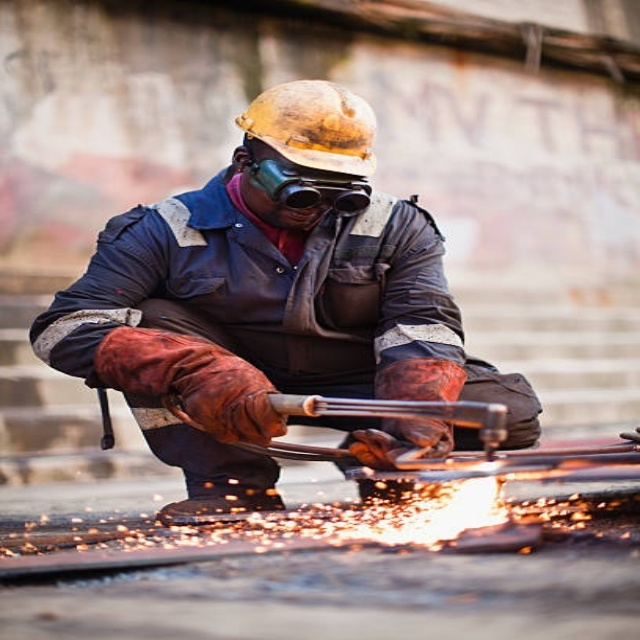Gafas: (242, 157, 376, 211)
Guantes: (94, 323, 285, 447), (345, 358, 465, 466)
Sin_mascara: (273, 208, 328, 230)
